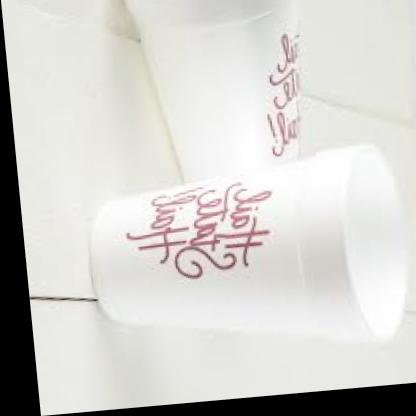Plastic: (56, 0, 416, 383)
